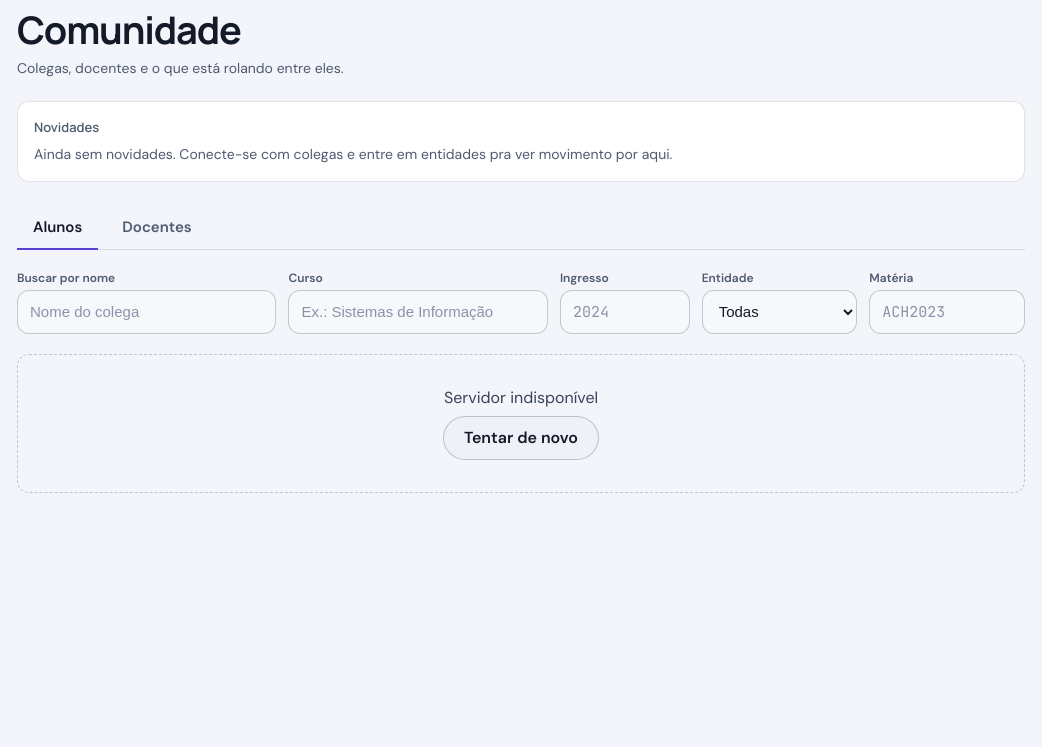
Test: ComunidadePage › mostra erro com tentar de novo
This screenshot has width=1042, height=747.
expect the text "Servidor indisponível" is shown: met, box 444,387 -> 598,408
What coordinates should you click on to do the following:
click the button "Tentar de novo"
I would click on:
 (521, 438)
Its box is 443,416 -> 599,460.
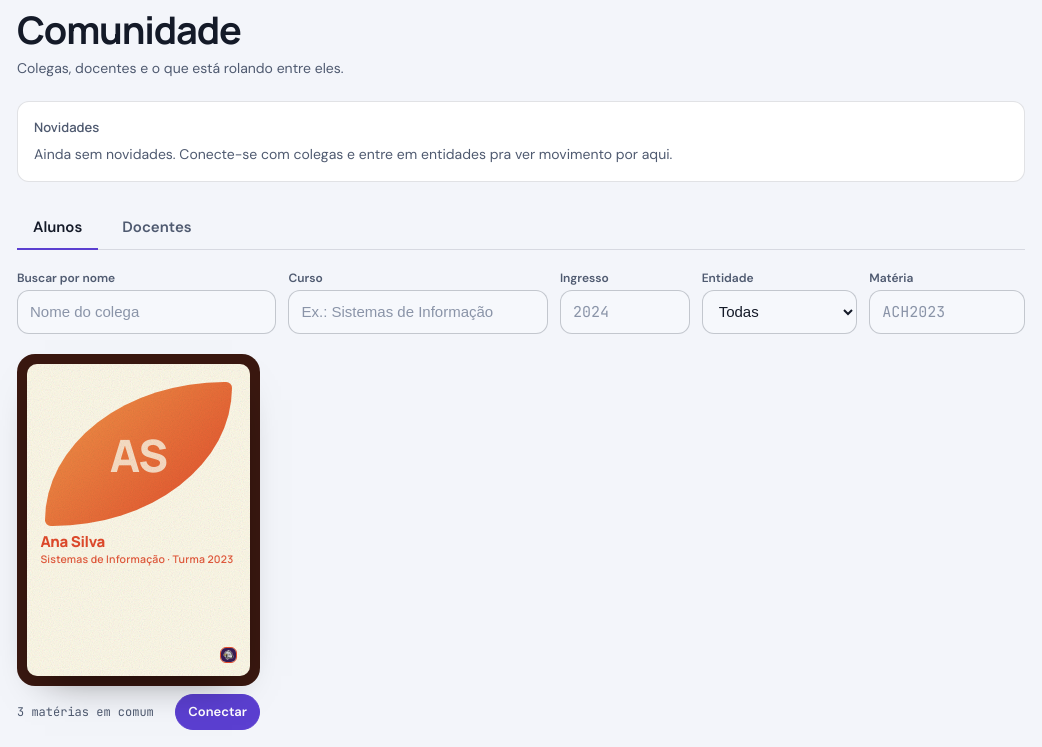
expect the heading "Ana Silva" is shown: met, box 40,531 -> 105,552
